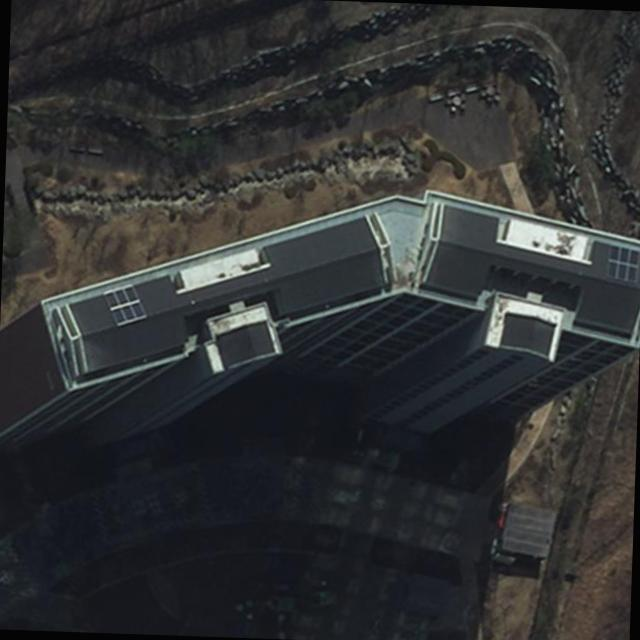solar: (102, 282, 152, 332), (603, 244, 640, 284)
